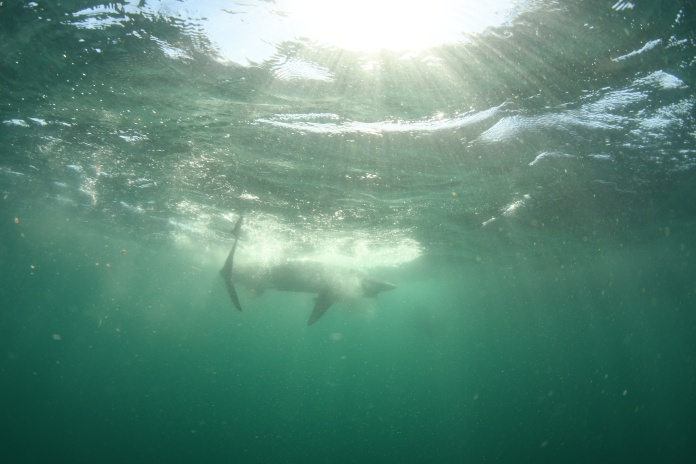Mako: (201, 214, 410, 335)
